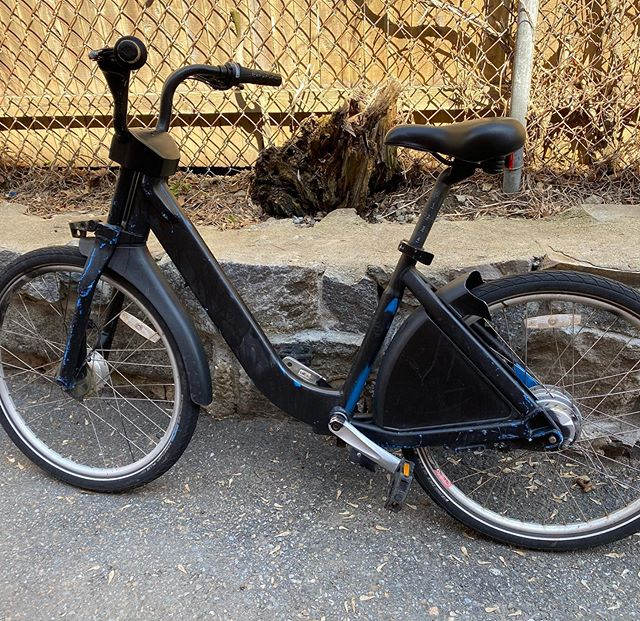bicicle: (17, 48, 640, 570)
